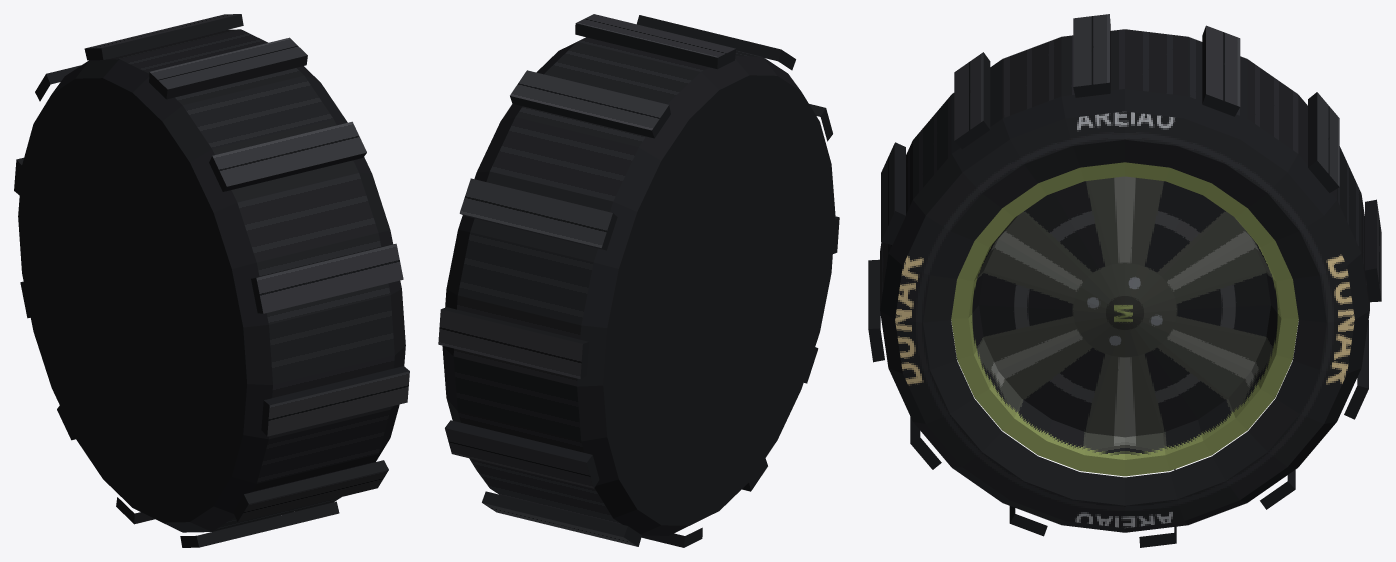
Rendered from mandacaru_lajedo_16_com_dunar_areiao.glb.
The picture shows the model from 3 angles, left to right: view 1: azimuth 30°, elevation 25°; view 2: azimuth 150°, elevation 25°; view 3: azimuth 270°, elevation 25°; orthographic projection.
Visible parts, largest first — view 1: mandacaru_lajedo_16_com_dunar_areiao; view 2: mandacaru_lajedo_16_com_dunar_areiao; view 3: mandacaru_lajedo_16_com_dunar_areiao.
Boxes of the visible parts, x1,y1,x2,y2 form: mandacaru_lajedo_16_com_dunar_areiao: (14,14,409,547); mandacaru_lajedo_16_com_dunar_areiao: (438,14,839,547); mandacaru_lajedo_16_com_dunar_areiao: (868,14,1381,547).
Size of the model in its own units: 0.2496 by 0.672 by 0.672.
Materials: 2 (2 with a texture image).
